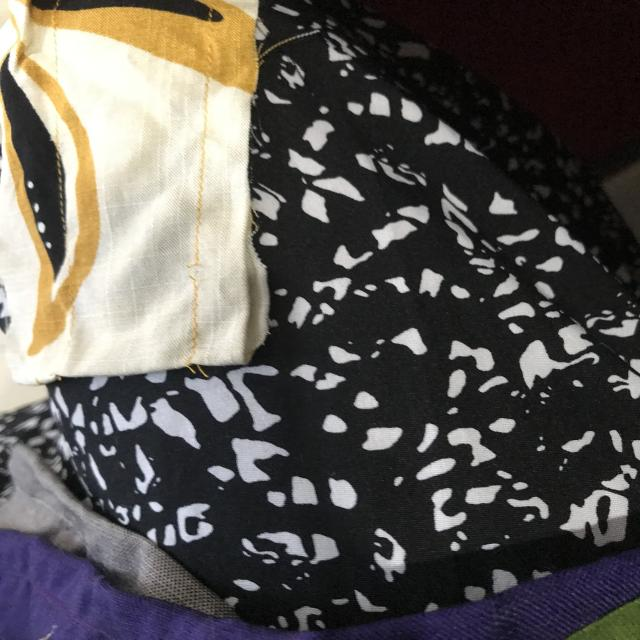broken: (176, 253, 211, 288)
